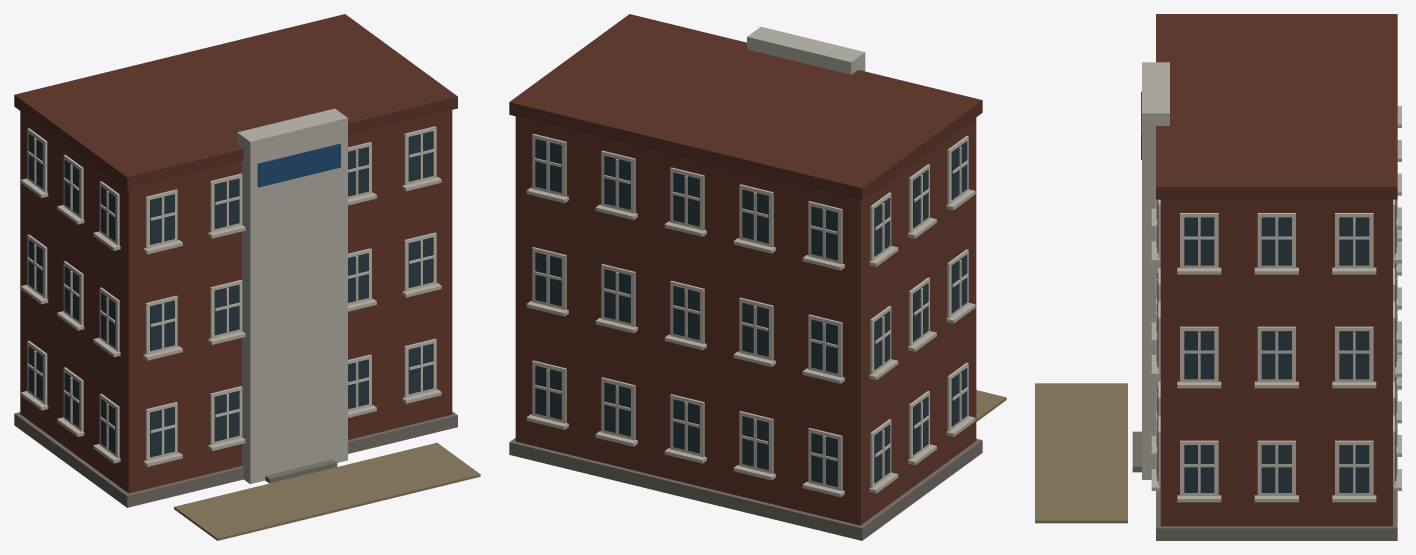
The model's file is procedural_high_school@5.glb.
The picture shows the model from 3 angles, left to right: view 1: azimuth 30°, elevation 25°; view 2: azimuth 150°, elevation 25°; view 3: azimuth 270°, elevation 25°; orthographic projection. The views are drawn at different scales.
Visible parts, largest first — view 1: part_0; view 2: part_0; view 3: part_0.
Part boxes in pixels (box(x1,y1,x2,y2)): part_0: box(14, 14, 480, 540); part_0: box(509, 14, 1006, 540); part_0: box(1035, 14, 1401, 540).
Bounding box in the file's own units: 8.98 × 8.7 × 7.89.
